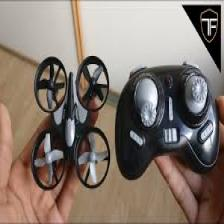drone: (31, 45, 114, 197)
